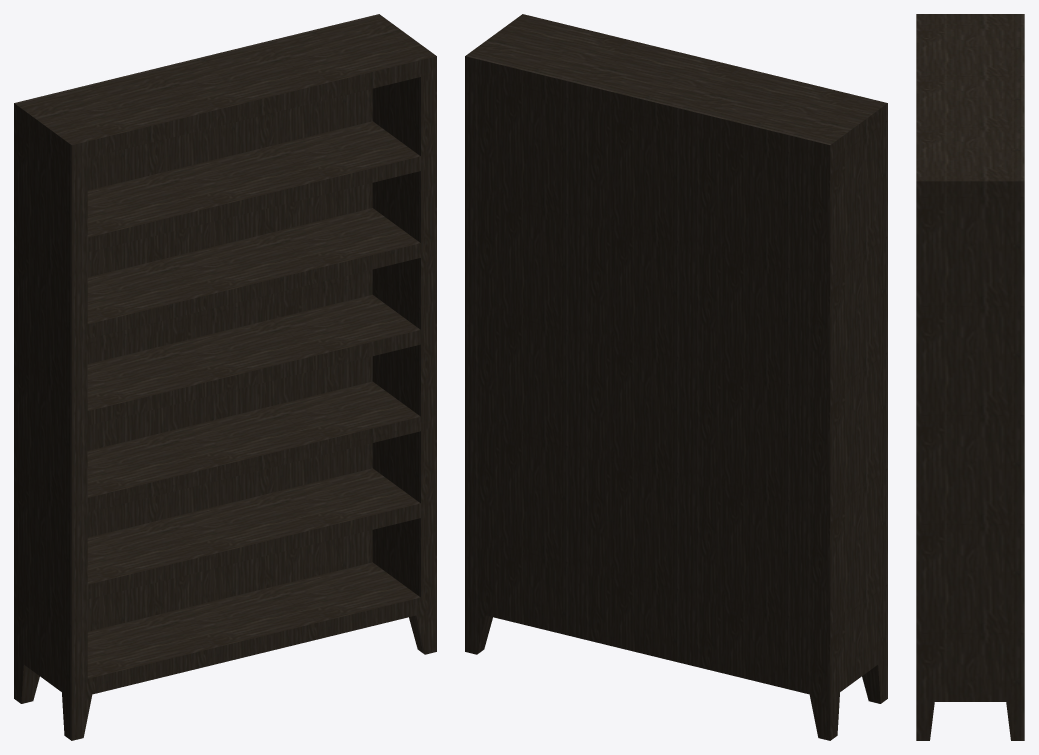
Rendered from regal_leer.FBX.
3 renders of one model, left to right at view 1: azimuth 30°, elevation 25°; view 2: azimuth 150°, elevation 25°; view 3: azimuth 270°, elevation 25°, orthographic. The views are drawn at different scales.
Visible parts, largest first — view 1: regal; view 2: regal; view 3: regal.
Boxes of the visible parts, x1,y1,x2,y2 form: regal: (14, 14, 436, 740); regal: (465, 14, 887, 740); regal: (916, 14, 1024, 740).
Bounding box in the file's own units: 211 × 329 × 57.68.
